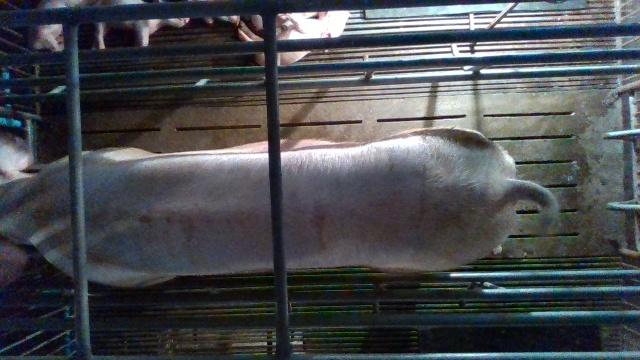piglet: (238, 11, 355, 64), (92, 0, 190, 49), (30, 0, 86, 51)
sow-stand-feed: (0, 127, 564, 286)
